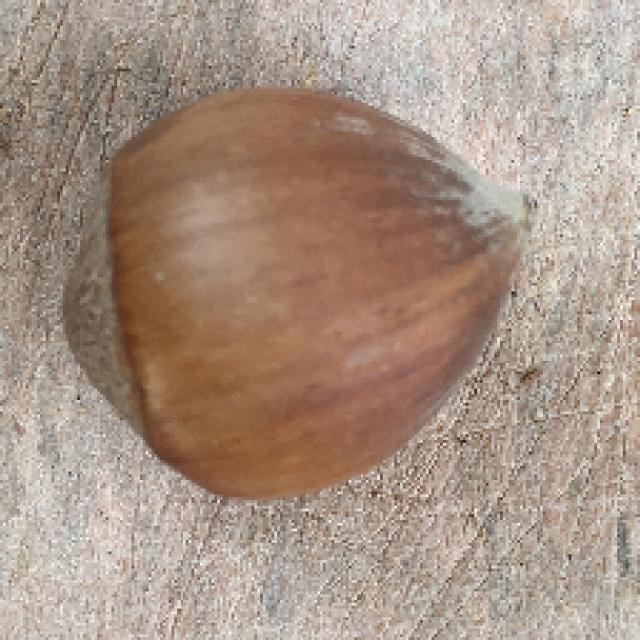damagedHazelnut: (72, 79, 537, 507)
